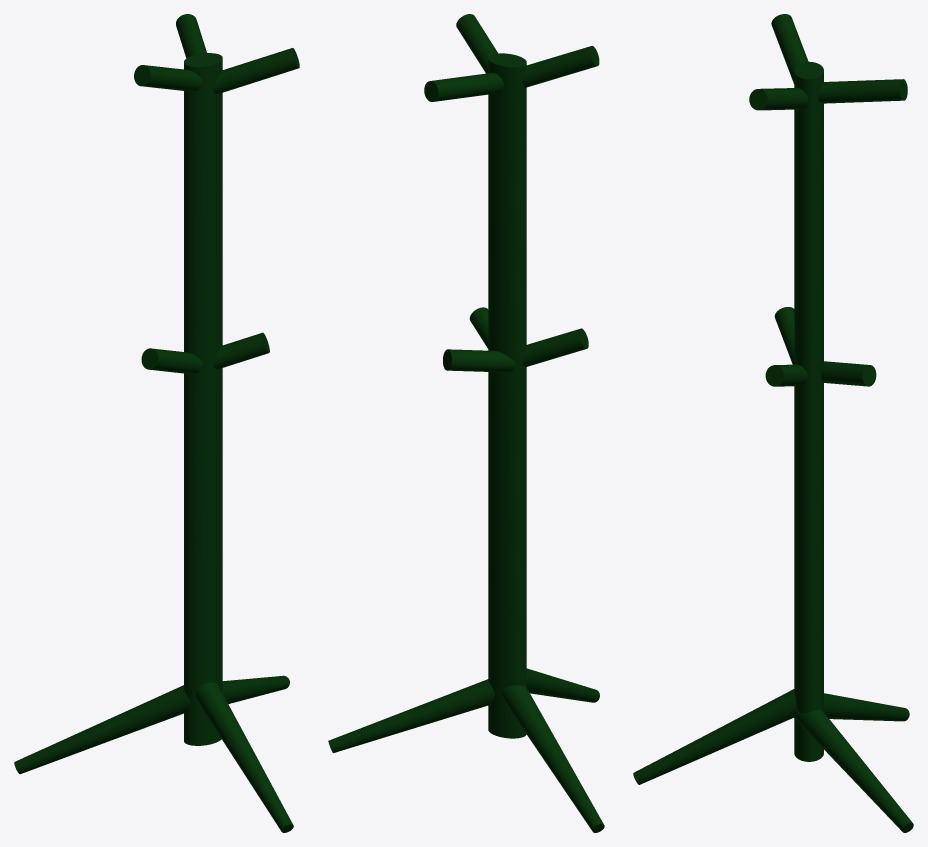
The model's file is PERCHERO.obj.
3 views of the same model, side by side, from view 1: azimuth 30°, elevation 25°; view 2: azimuth 150°, elevation 25°; view 3: azimuth 270°, elevation 25° (orthographic).
Parts seen in each view (by area): view 1: 3d-model; view 2: 3d-model; view 3: 3d-model.
Part boxes in pixels (<box>): 3d-model: <box>14,14,299,832</box>; 3d-model: <box>328,14,604,832</box>; 3d-model: <box>633,14,913,832</box>.
Size of the model in its own units: 0.5658 by 1.44 by 0.4954.
Materials: 2 (1 with a texture image).
